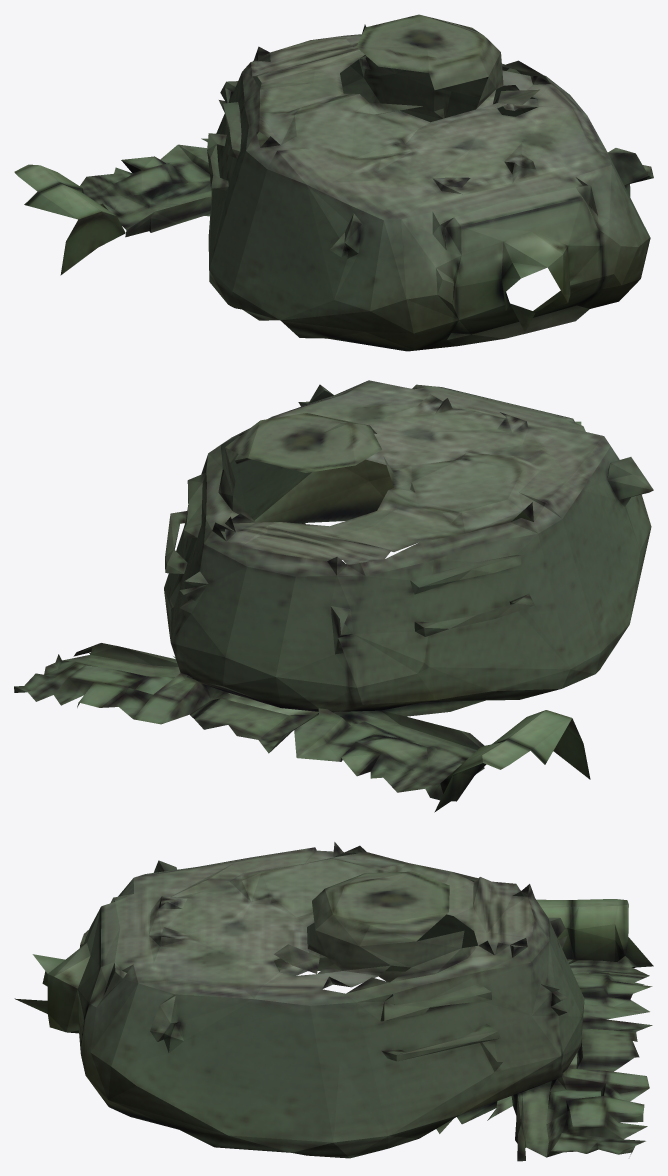
Rendered from is2_turret.glb.
3 views of the same model, one above another, from view 1: azimuth 30°, elevation 25°; view 2: azimuth 150°, elevation 25°; view 3: azimuth 270°, elevation 25° (orthographic). The views are drawn at different scales.
Visible parts, largest first — view 1: is2_00001_.glb; view 2: is2_00001_.glb; view 3: is2_00001_.glb.
Boxes of the visible parts, left/top/right/bottom form: is2_00001_.glb: left=14, top=14, right=653, bottom=351; is2_00001_.glb: left=14, top=380, right=653, bottom=812; is2_00001_.glb: left=14, top=842, right=653, bottom=1161.
Bounding box in the file's own units: 3.38 × 1.4 × 3.96.
1 material, 1 textured.
